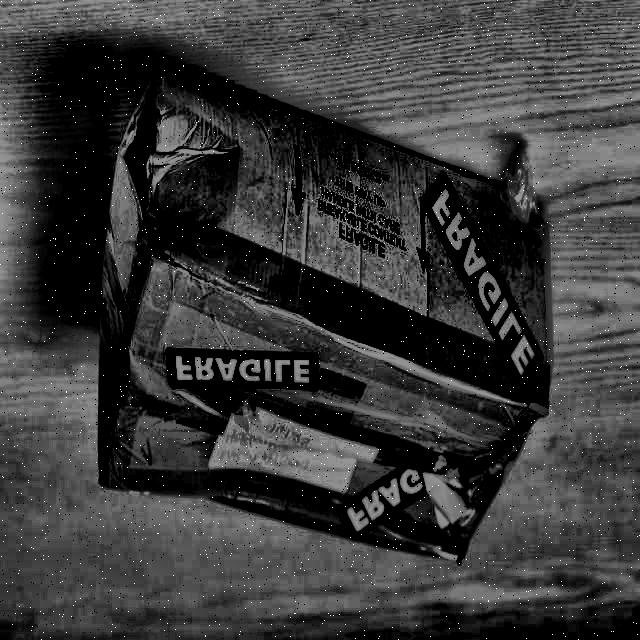box: (89, 55, 560, 573)
hole: (122, 81, 172, 227)
